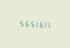five: (17, 19, 21, 27), (27, 19, 31, 27)
one: (32, 19, 36, 28), (42, 20, 46, 28), (47, 20, 51, 28)
six: (22, 19, 26, 27), (37, 20, 41, 28)
